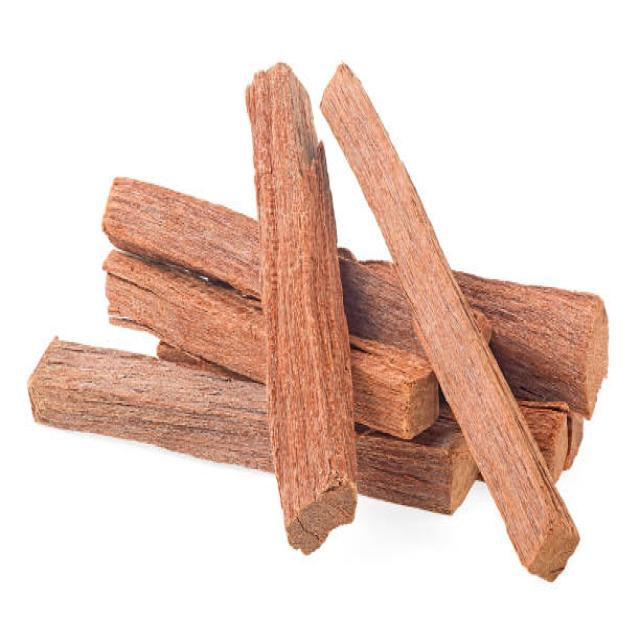Sandalwood: (78, 108, 533, 616)
